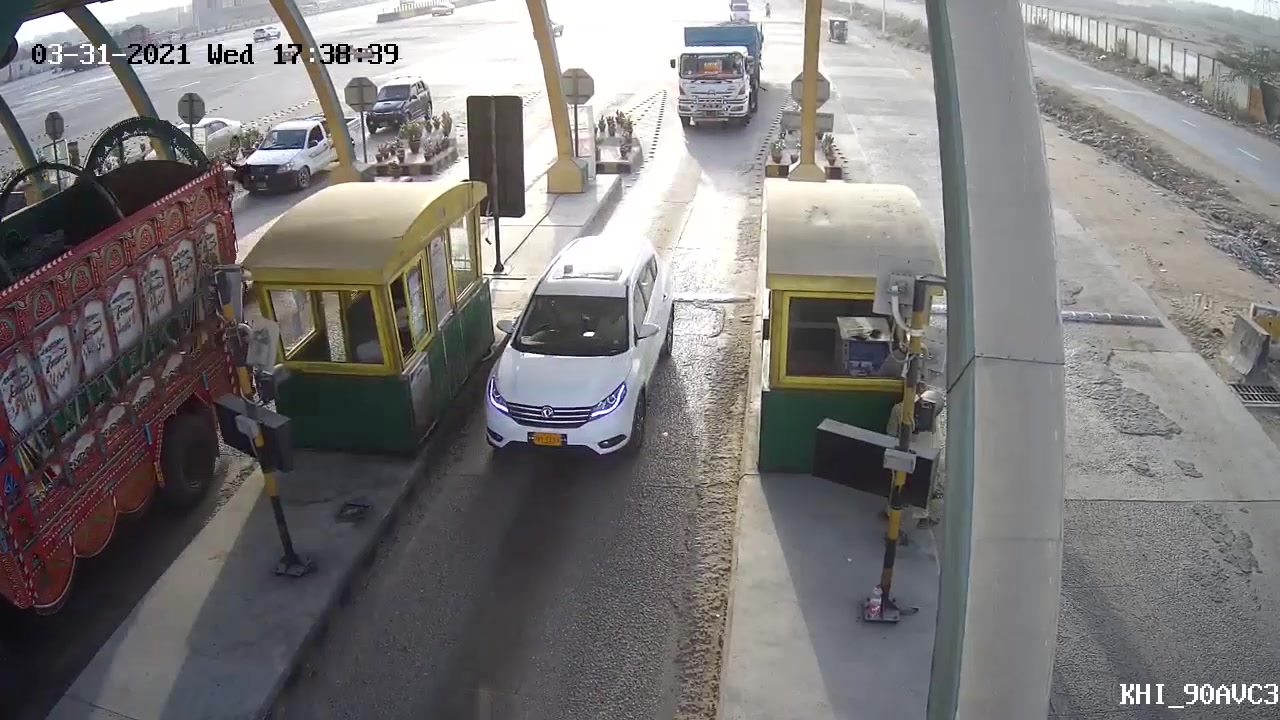F1: (476, 239, 687, 476)
F6: (664, 13, 771, 135)
